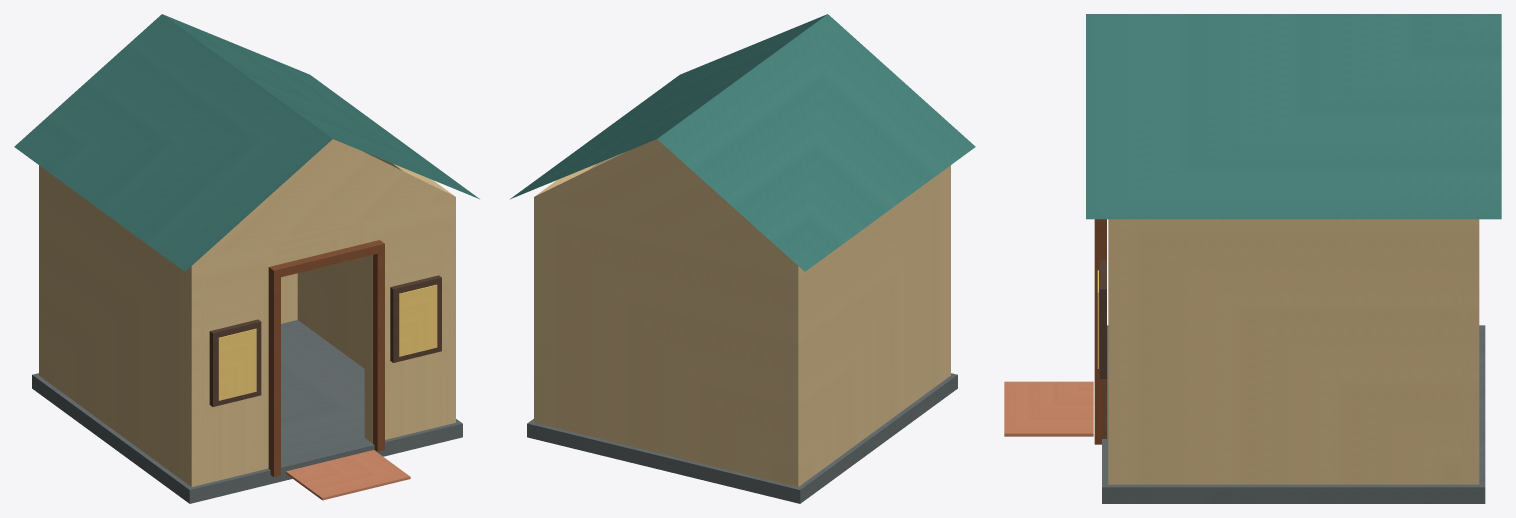
File: exterior.glb
The picture shows the model from 3 angles, left to right: view 1: azimuth 30°, elevation 25°; view 2: azimuth 150°, elevation 25°; view 3: azimuth 270°, elevation 25°; orthographic projection. The views are drawn at different scales.
Visible parts, largest first — view 1: exterior; view 2: exterior; view 3: exterior.
Boxes of the visible parts, <box> form: exterior: <box>14,14,479,503</box>; exterior: <box>510,14,975,503</box>; exterior: <box>1004,14,1501,503</box>.
Size of the model in its own units: 3.36 by 3.65 by 4.02.
Materials: 1 (1 with a texture image).
